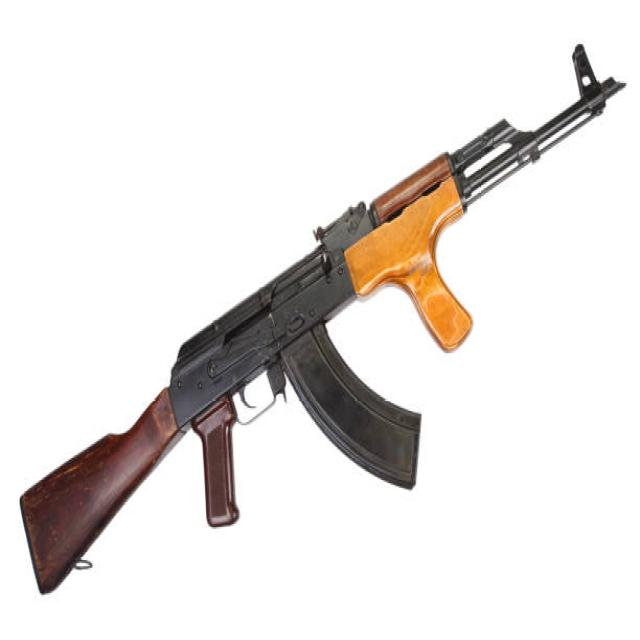rifle: (5, 42, 626, 600)
